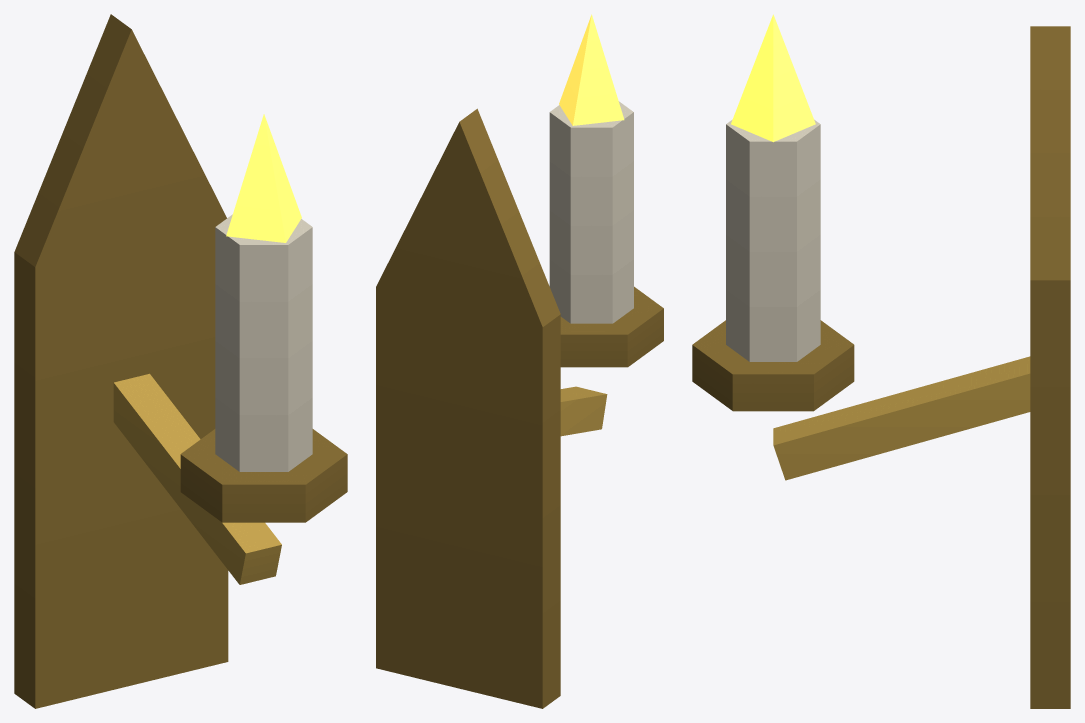
File: catedral-wall_sconce.glb
3 renders of one model, left to right at view 1: azimuth 30°, elevation 25°; view 2: azimuth 150°, elevation 25°; view 3: azimuth 270°, elevation 25°, orthographic. The views are drawn at different scales.
Parts seen in each view (by area): view 1: wall_sconce; view 2: wall_sconce; view 3: wall_sconce.
Boxes of the visible parts, x1,y1,x2,y2 form: wall_sconce: (14,14,347,708); wall_sconce: (376,14,663,708); wall_sconce: (692,14,1070,708).
Size of the model in its own units: 0.16 by 0.53 by 0.28.
Materials: 1 (1 with a texture image).
